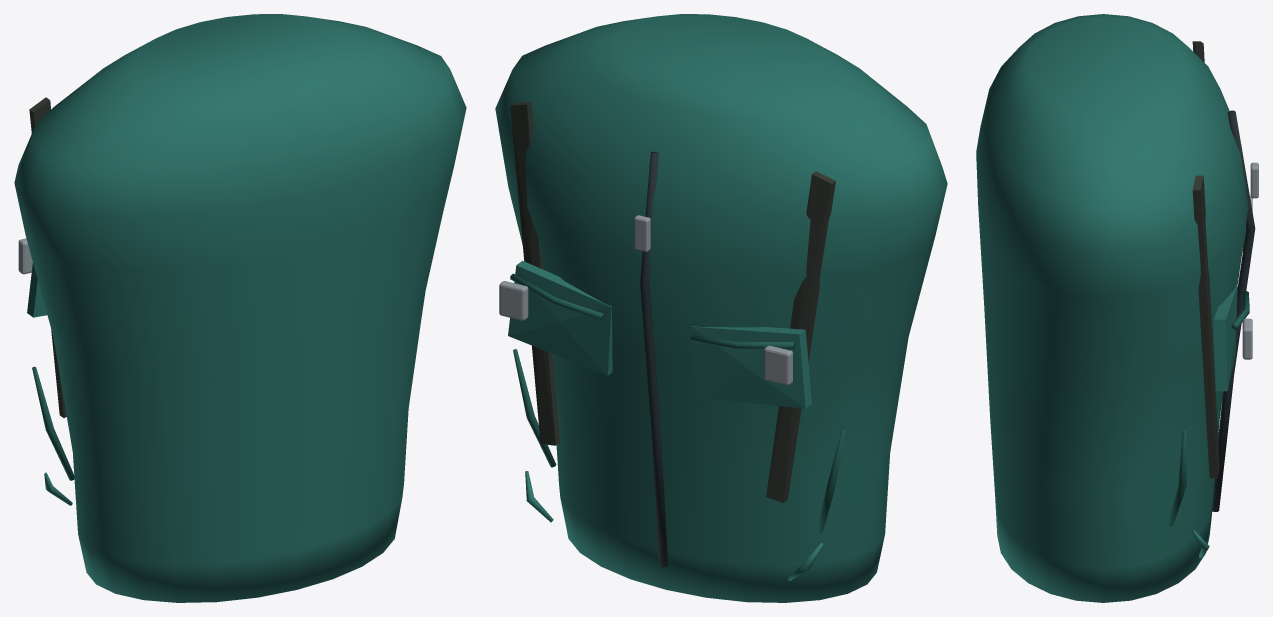
Rendered from CharTorso.glb.
The picture shows the model from 3 angles, left to right: view 1: azimuth 30°, elevation 25°; view 2: azimuth 150°, elevation 25°; view 3: azimuth 270°, elevation 25°; orthographic projection. The views are drawn at different scales.
Parts seen in each view (by area): view 1: CharTorso; view 2: CharTorso; view 3: CharTorso.
Boxes of the visible parts, x1=… form: CharTorso: x1=14, y1=14, x2=466, y2=602; CharTorso: x1=495, y1=14, x2=947, y2=602; CharTorso: x1=976, y1=14, x2=1258, y2=602.
Size of the model in its own units: 0.472 by 0.52 by 0.282.
